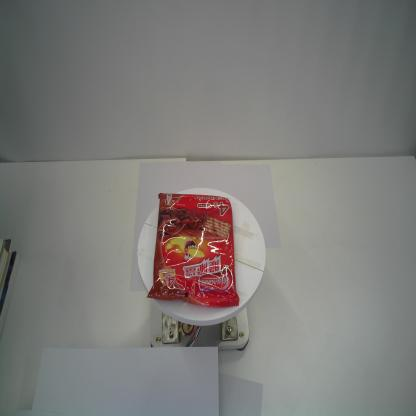Dessert: (146, 192, 240, 308)
